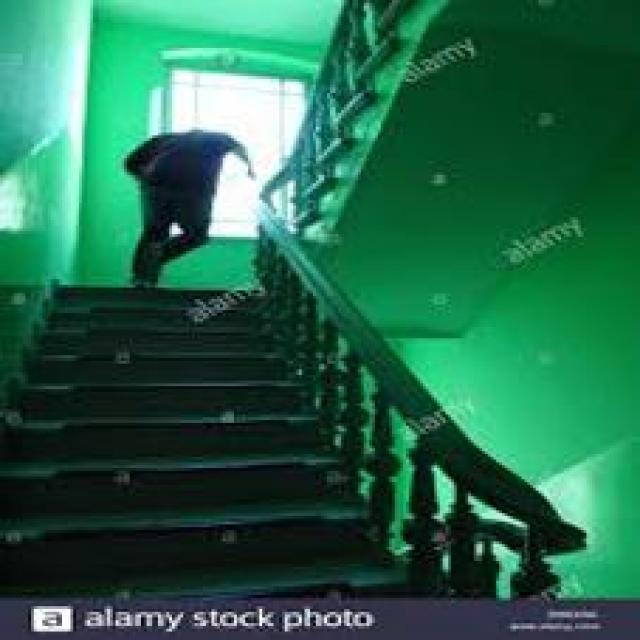stair: (24, 373, 371, 557)
